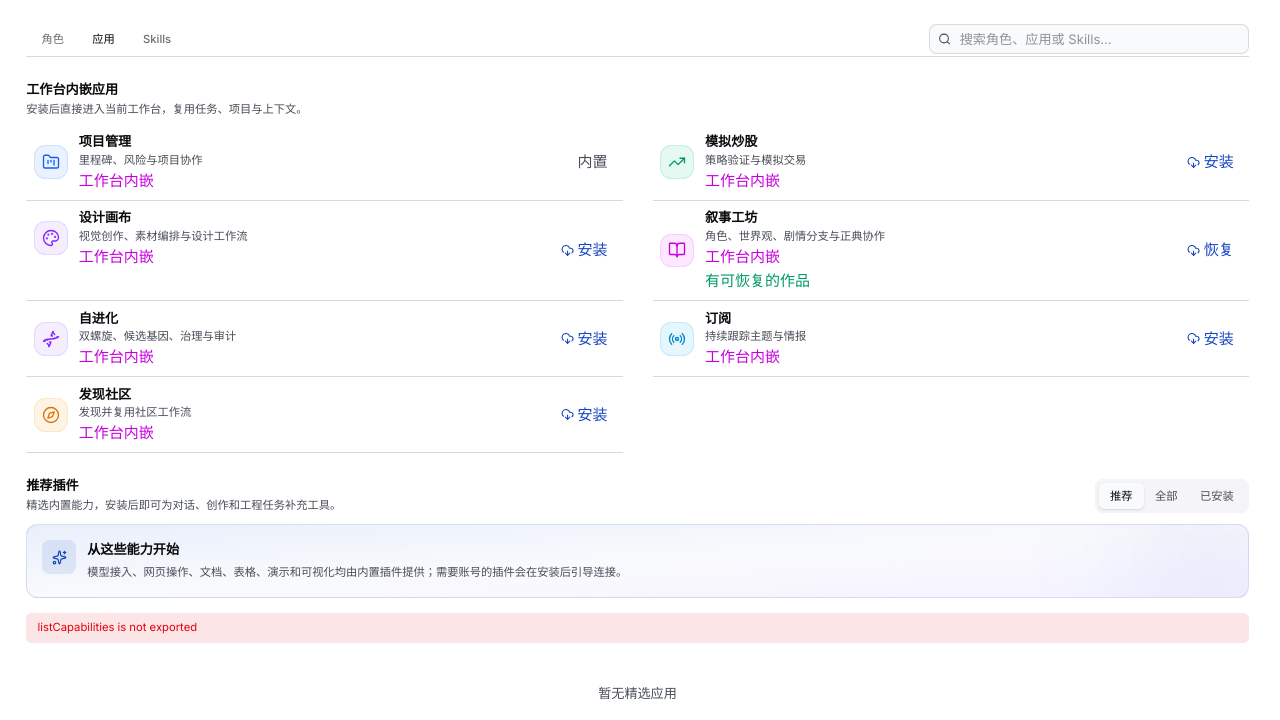
Test: HUB market shell › offers to restore retained work when reinstalling
Check: the text "有可恢复的作品" is shown, box [705, 271, 810, 290]
Click the button with aria-label "叙事工坊 · 角色、世界观、剧情分支与正典协作".
click(677, 250)  # box [652, 201, 1249, 300]
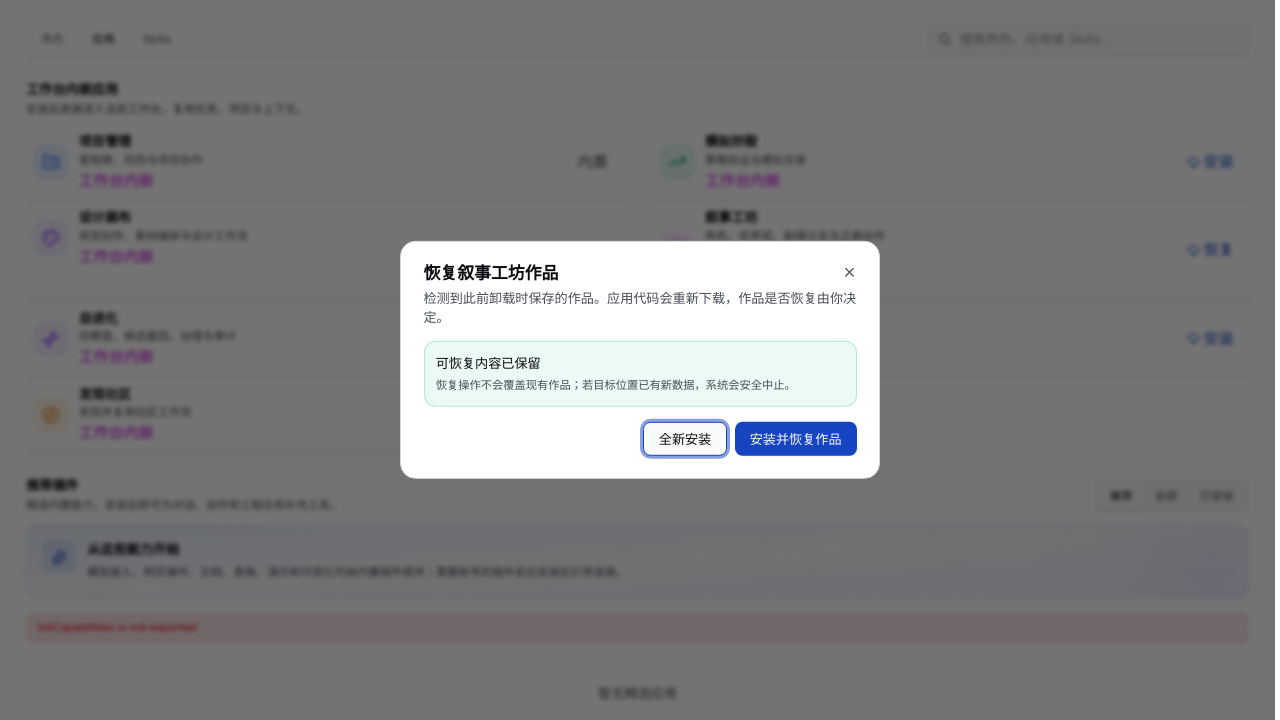
Check: the heading "恢复叙事工坊作品" is shown, box [424, 262, 558, 282]
Check: the button "安装并恢复作品" is shown, box [735, 422, 856, 456]
